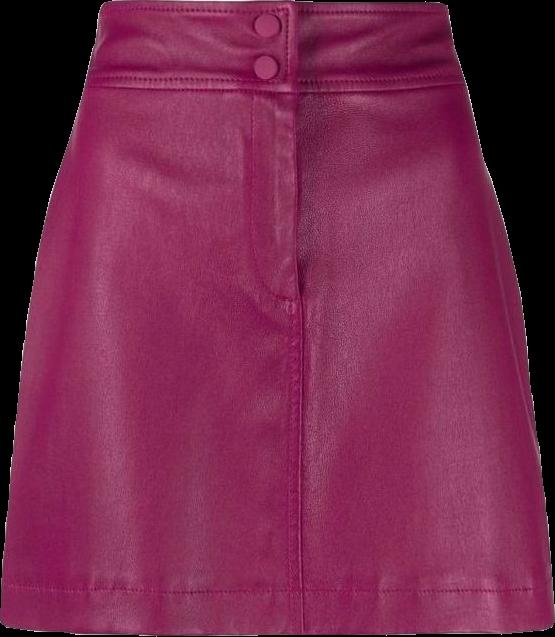Hemline: (0, 622, 554, 636)
Waistline: (81, 79, 466, 97), (99, 0, 452, 10)
